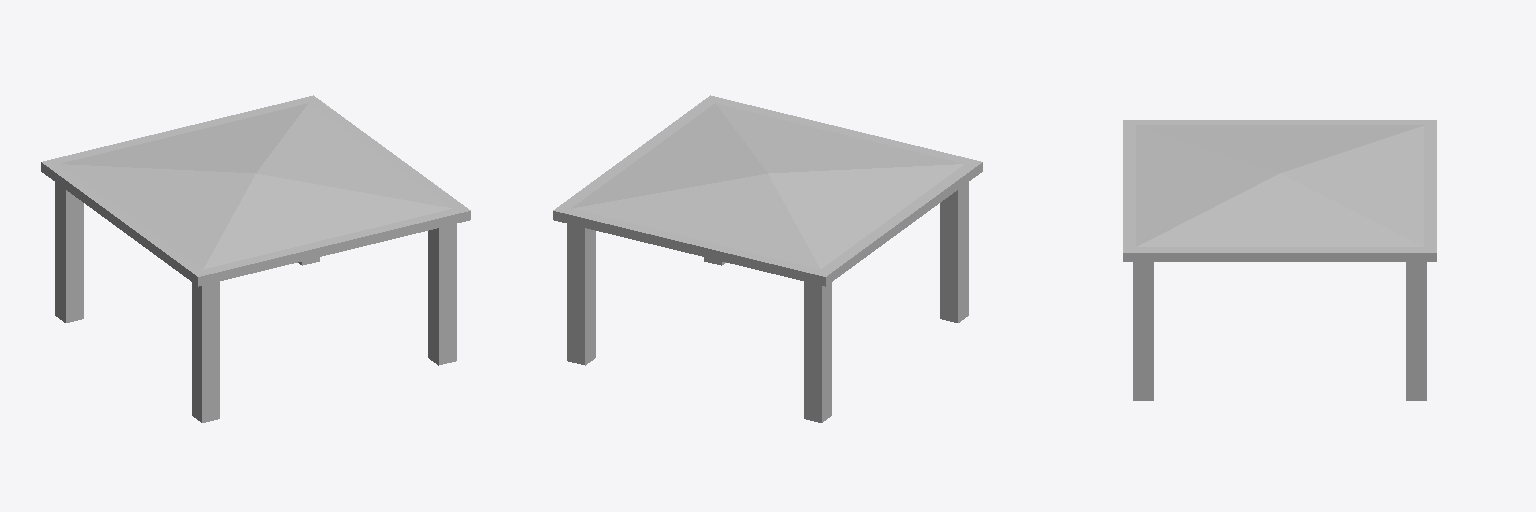
File: canopy.obj
3 views of the same model, side by side, from view 1: azimuth 30°, elevation 25°; view 2: azimuth 150°, elevation 25°; view 3: azimuth 270°, elevation 25° (orthographic).
Visible parts, largest first — view 1: Cube, Cube.001; view 2: Cube, Cube.001; view 3: Cube, Cube.001.
Boxes of the visible parts, box(x1,y1,x2,y2) form: Cube: box(41, 95, 470, 286); Cube.001: box(55, 182, 456, 422); Cube: box(553, 95, 982, 286); Cube.001: box(567, 182, 968, 422); Cube: box(1123, 120, 1436, 261); Cube.001: box(1133, 262, 1426, 400).
Size of the model in its own units: 30 by 17.35 by 30.